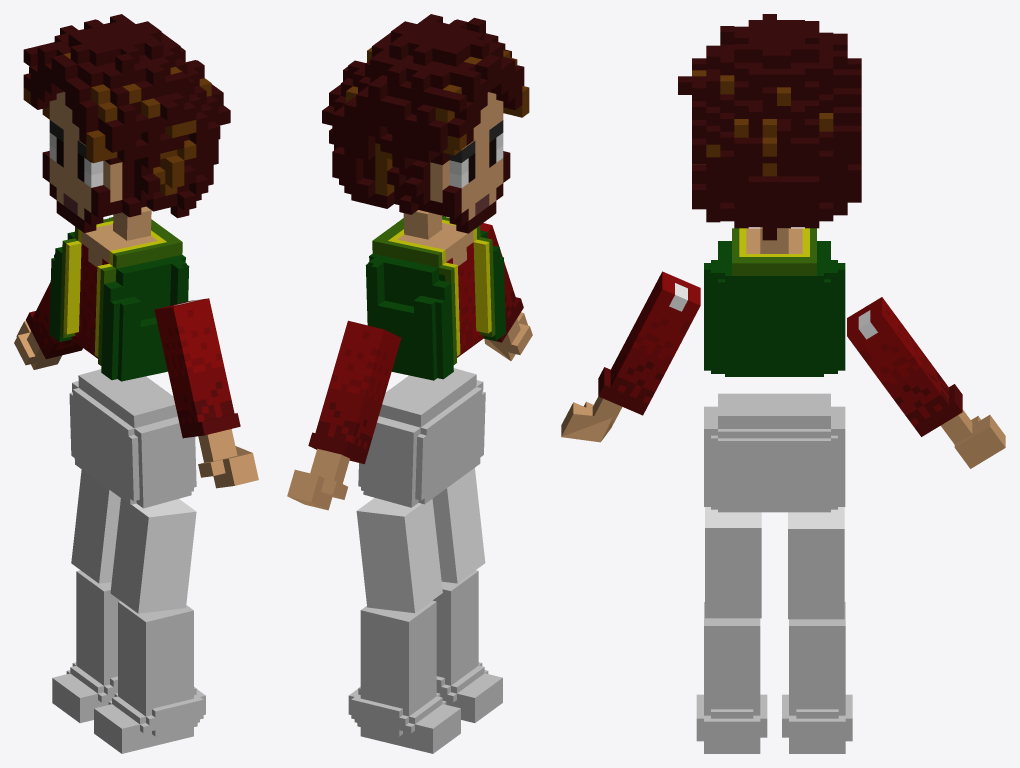
The model's file is Idle4.fbx.
3 renders of one model, left to right at view 1: azimuth 30°, elevation 25°; view 2: azimuth 150°, elevation 25°; view 3: azimuth 270°, elevation 25°, orthographic.
Parts seen in each view (by area): view 1: Idle4; view 2: Idle4; view 3: Idle4.
Part boxes in pixels (bbox=[...]): Idle4: bbox=[14, 14, 258, 753]; Idle4: bbox=[287, 14, 532, 753]; Idle4: bbox=[561, 14, 1005, 753].
Bounding box in the file's own units: 48.63 × 220 × 127.
